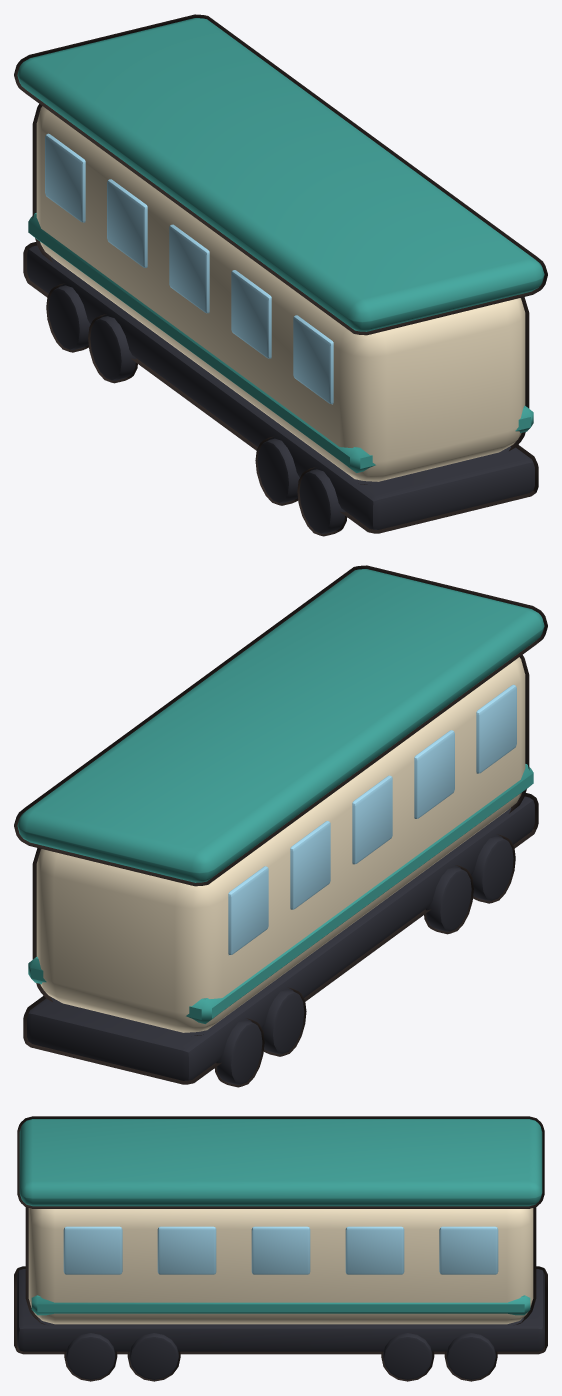
The model's file is Train_Carriage.fbx.
The picture shows the model from 3 angles, top to bottom: view 1: azimuth 30°, elevation 25°; view 2: azimuth 150°, elevation 25°; view 3: azimuth 270°, elevation 25°; orthographic projection. The views are drawn at different scales.
Visible parts, largest first — view 1: VH_Train_Carriage_RoofTeal, VH_Train_Carriage_WallCream, VH_Train_Carriage_Black, VH_Train_Carriage_Window, VH_Train_Carriage_Outline; view 2: VH_Train_Carriage_RoofTeal, VH_Train_Carriage_WallCream, VH_Train_Carriage_Black, VH_Train_Carriage_Window, VH_Train_Carriage_Outline; view 3: VH_Train_Carriage_RoofTeal, VH_Train_Carriage_WallCream, VH_Train_Carriage_Black, VH_Train_Carriage_Window, VH_Train_Carriage_Outline.
Part boxes in pixels (bbox=[...]): VH_Train_Carriage_RoofTeal: bbox=[17, 18, 544, 472]; VH_Train_Carriage_WallCream: bbox=[36, 106, 525, 481]; VH_Train_Carriage_Black: bbox=[27, 245, 534, 533]; VH_Train_Carriage_Window: bbox=[45, 133, 333, 404]; VH_Train_Carriage_Outline: bbox=[14, 14, 547, 536]; VH_Train_Carriage_RoofTeal: bbox=[17, 569, 544, 1023]; VH_Train_Carriage_WallCream: bbox=[36, 657, 525, 1032]; VH_Train_Carriage_Black: bbox=[27, 796, 534, 1084]; VH_Train_Carriage_Window: bbox=[228, 684, 516, 955]; VH_Train_Carriage_Outline: bbox=[14, 565, 547, 1087]; VH_Train_Carriage_RoofTeal: bbox=[19, 1119, 542, 1315]; VH_Train_Carriage_WallCream: bbox=[28, 1208, 533, 1324]; VH_Train_Carriage_Black: bbox=[17, 1269, 544, 1379]; VH_Train_Carriage_Window: bbox=[63, 1226, 498, 1274]; VH_Train_Carriage_Outline: bbox=[14, 1116, 547, 1381].
Bounding box in the file's own units: 2.99 × 3.76 × 9.1.
